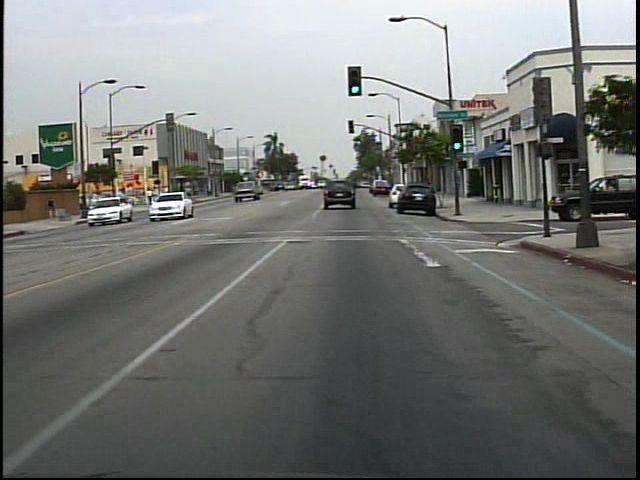person: (44, 195, 64, 223), (145, 185, 157, 210)
